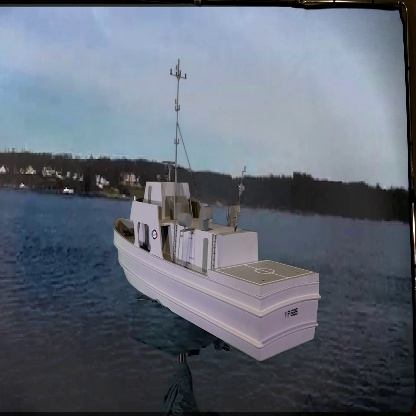YP689: (113, 61, 321, 364)
